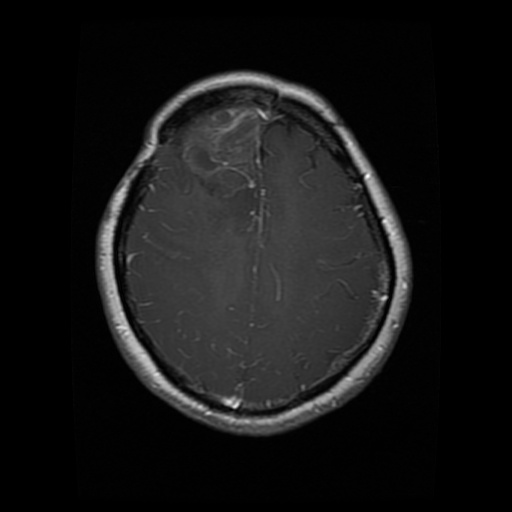glioma: (155, 104, 284, 208)
